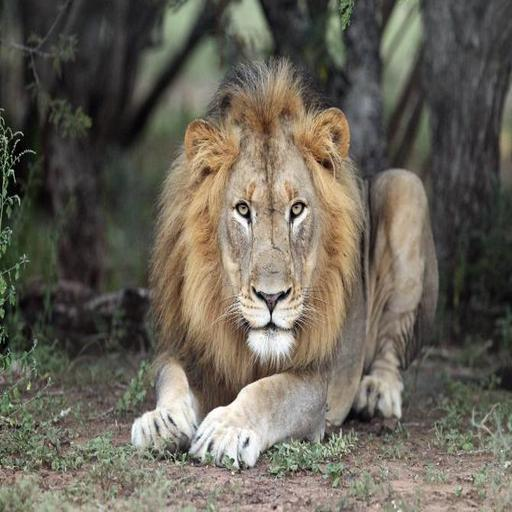Lion: (119, 56, 466, 485)
